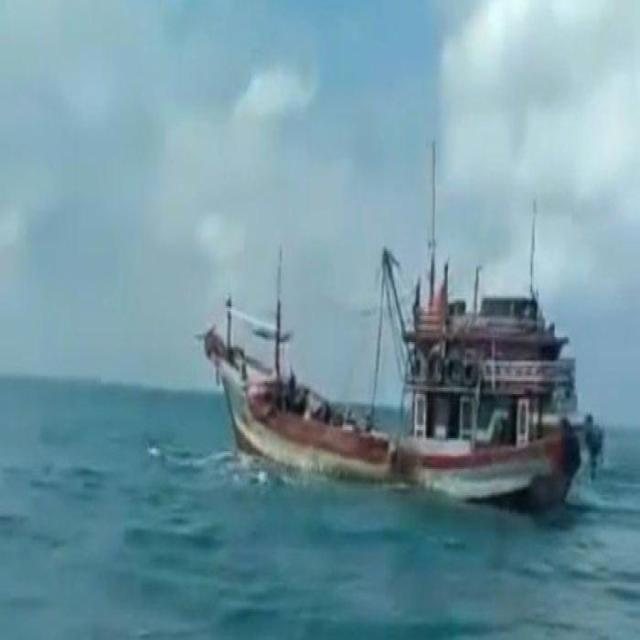Fishing Boat: (163, 110, 604, 568)
